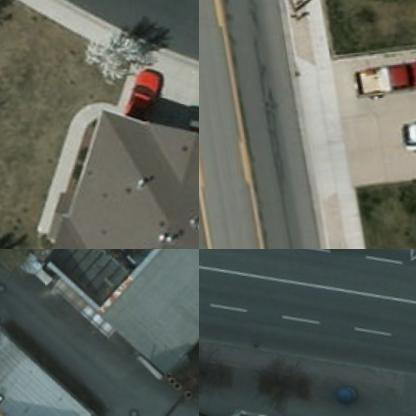car: (110, 64, 168, 128), (393, 122, 415, 163)
pickup: (348, 64, 415, 105)
